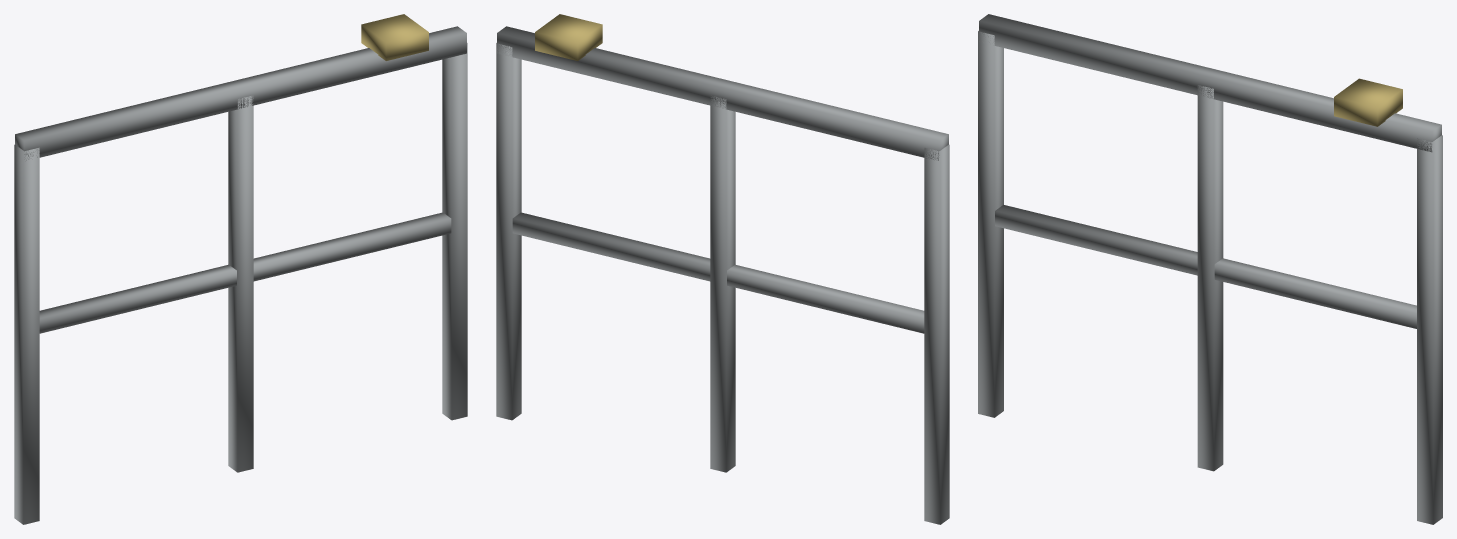
File: residential_ladder_break_l120.glb
3 renders of one model, left to right at view 1: azimuth 30°, elevation 25°; view 2: azimuth 150°, elevation 25°; view 3: azimuth 330°, elevation 25°, orthographic. The views are drawn at different scales.
Visible parts, largest first — view 1: world; view 2: world; view 3: world.
Part boxes in pixels (left/top/right/bottom): world: left=14, top=14, right=467, bottom=524; world: left=496, top=14, right=949, bottom=524; world: left=978, top=14, right=1442, bottom=524.
Size of the model in its own units: 1.25 by 1.08 by 0.12.
